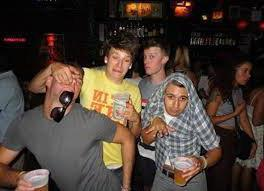Drunk: (56, 66, 81, 99), (165, 84, 186, 115), (108, 48, 130, 76), (143, 48, 160, 73)
